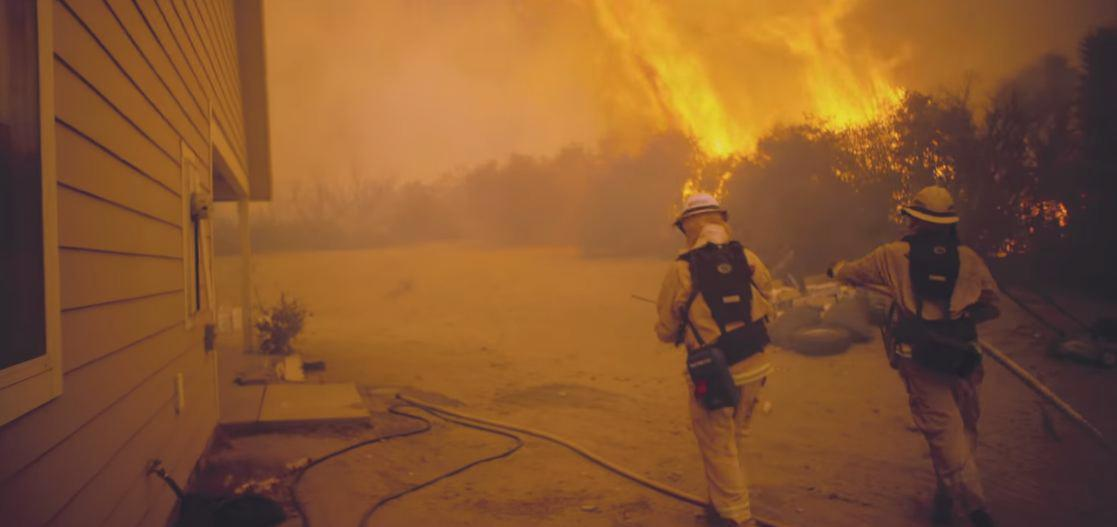Fire: (589, 5, 784, 205), (783, 8, 944, 174)
